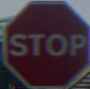Stop: (5, 5, 87, 78)
